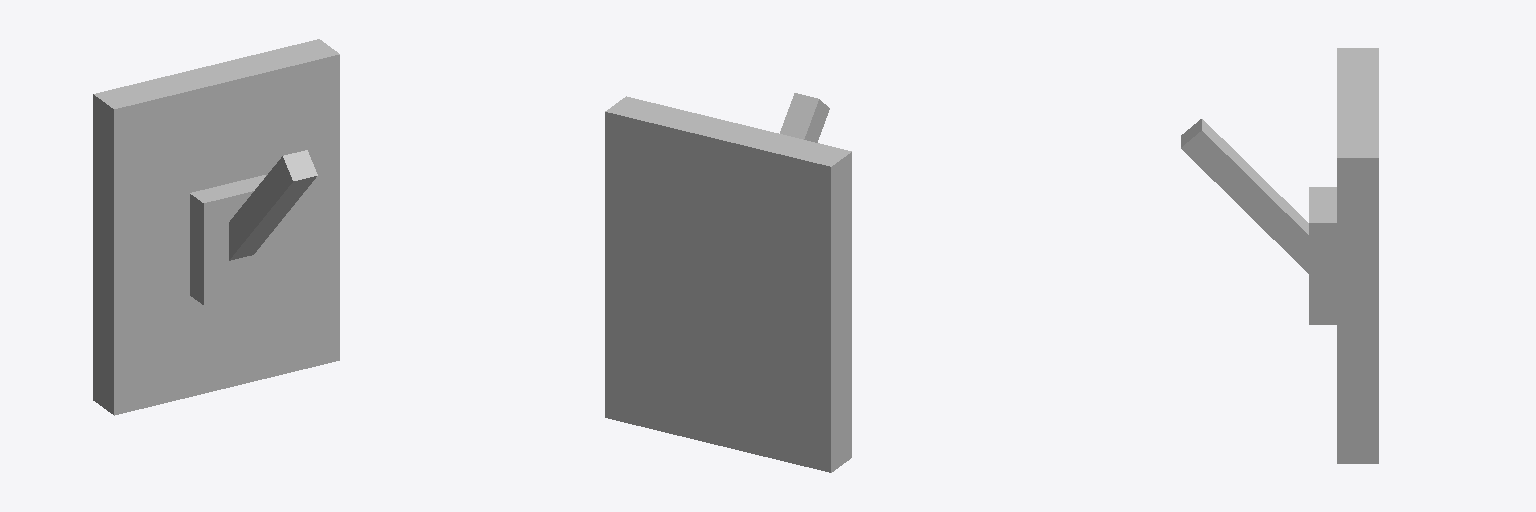
File: switch.obj
3 views of the same model, side by side, from view 1: azimuth 30°, elevation 25°; view 2: azimuth 150°, elevation 25°; view 3: azimuth 270°, elevation 25° (orthographic).
Visible parts, largest first — view 1: pCube3; view 2: pCube3; view 3: pCube3.
Part boxes in pixels (x1,y1,x2,y2): pCube3: (93, 39, 339, 415); pCube3: (605, 93, 851, 472); pCube3: (1181, 48, 1378, 463).
Size of the model in its own units: 0.5129 by 0.6634 by 0.3905.